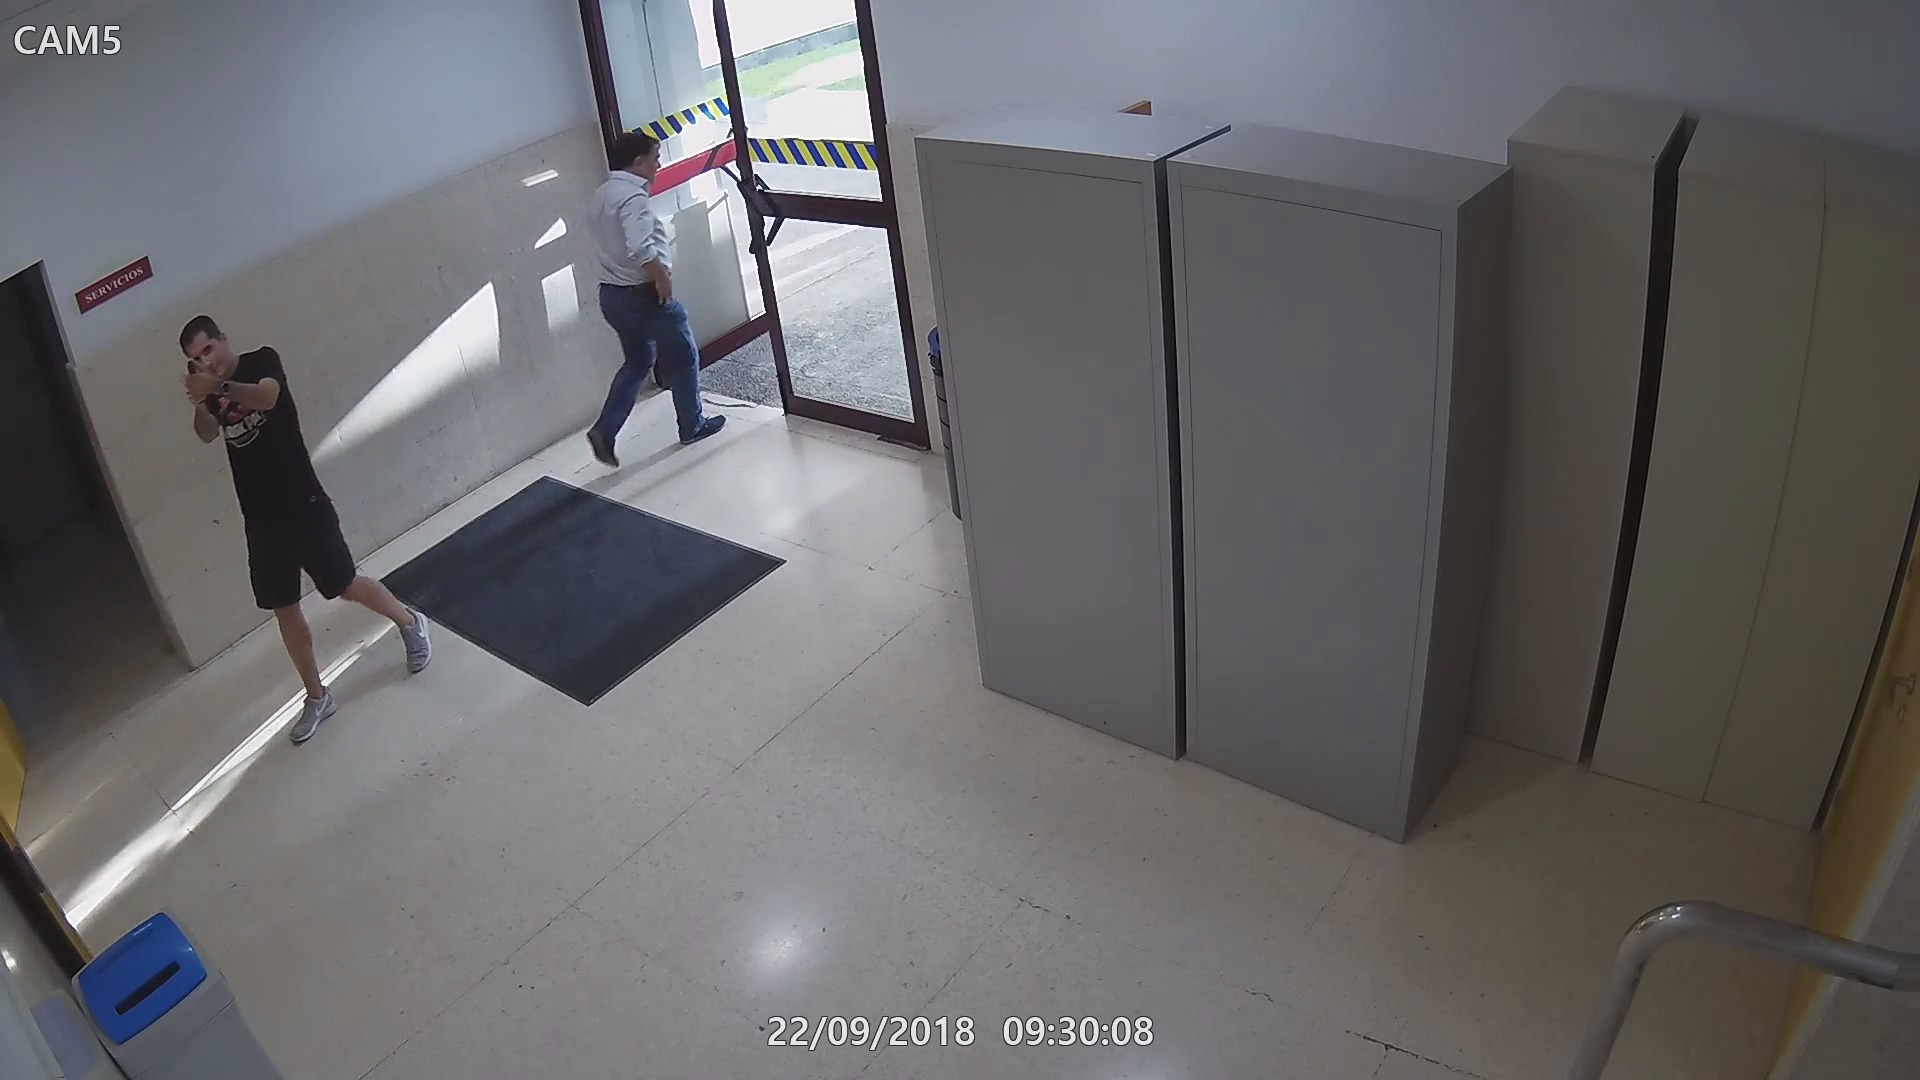Handgun: (181, 359, 216, 404), (640, 274, 678, 309)
